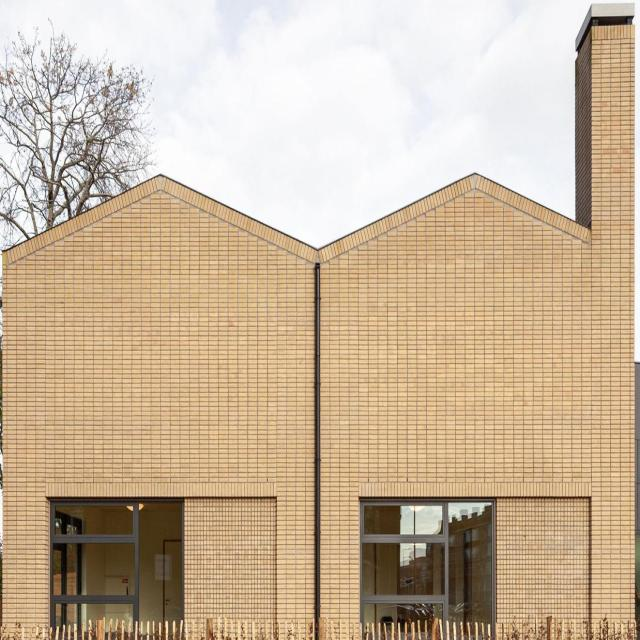door: (48, 492, 183, 640), (360, 495, 495, 640)
railing: (3, 621, 633, 640)
